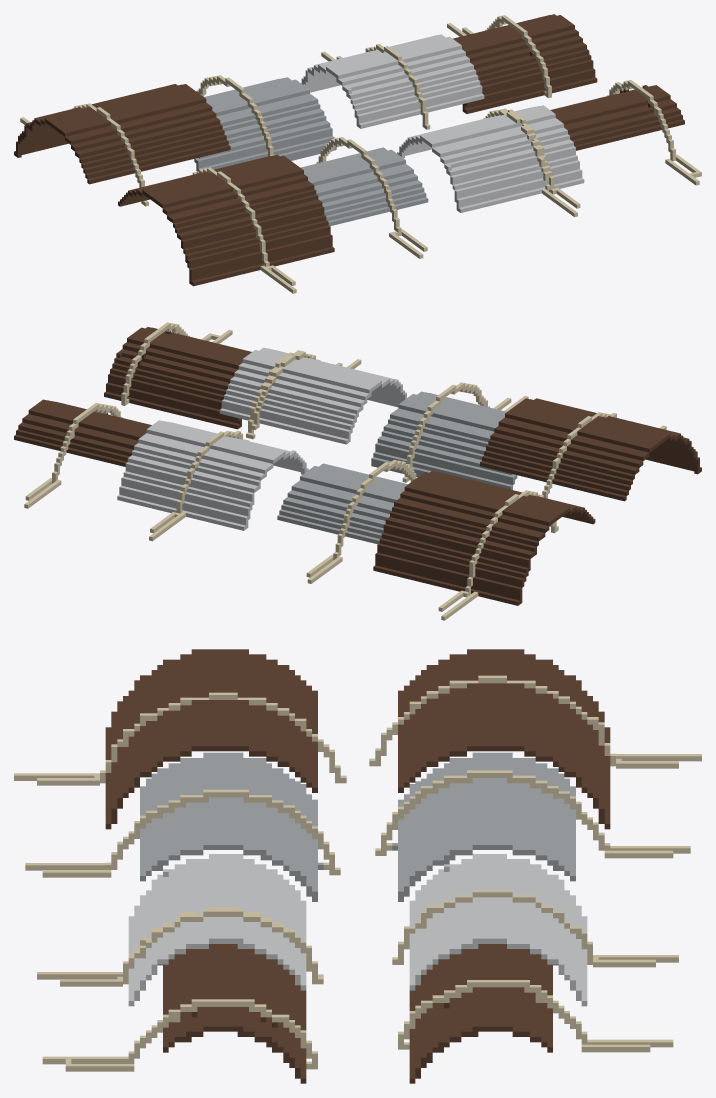
File: leg_guards_scrap.glb
3 views of the same model, one above another, from view 1: azimuth 30°, elevation 25°; view 2: azimuth 150°, elevation 25°; view 3: azimuth 270°, elevation 25° (orthographic). The views are drawn at different scales.
Visible parts, largest first — view 1: leg_guards_scrap:compound; view 2: leg_guards_scrap:compound; view 3: leg_guards_scrap:compound.
Boxes of the visible parts, x1,y1,x2,y2 form: leg_guards_scrap:compound: [14, 14, 701, 293]; leg_guards_scrap:compound: [14, 322, 701, 620]; leg_guards_scrap:compound: [14, 649, 701, 1083].
Bounding box in the file's own units: 0.58 × 0.068 × 0.48.
